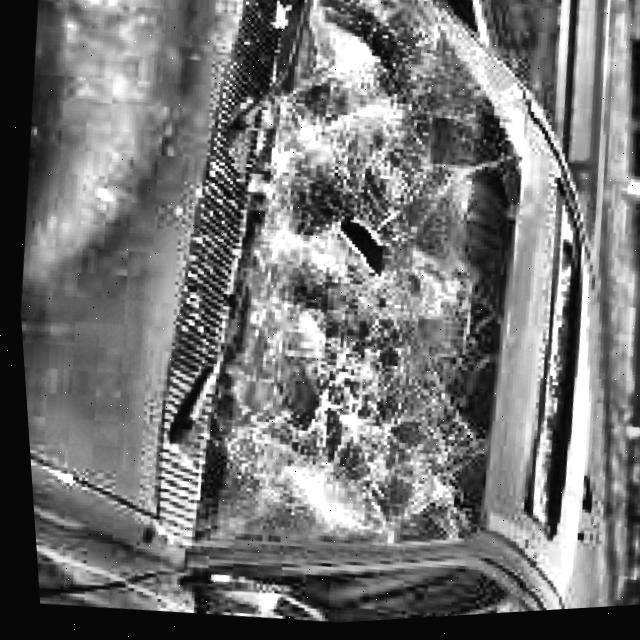glass_shatter: (262, 72, 521, 535)
